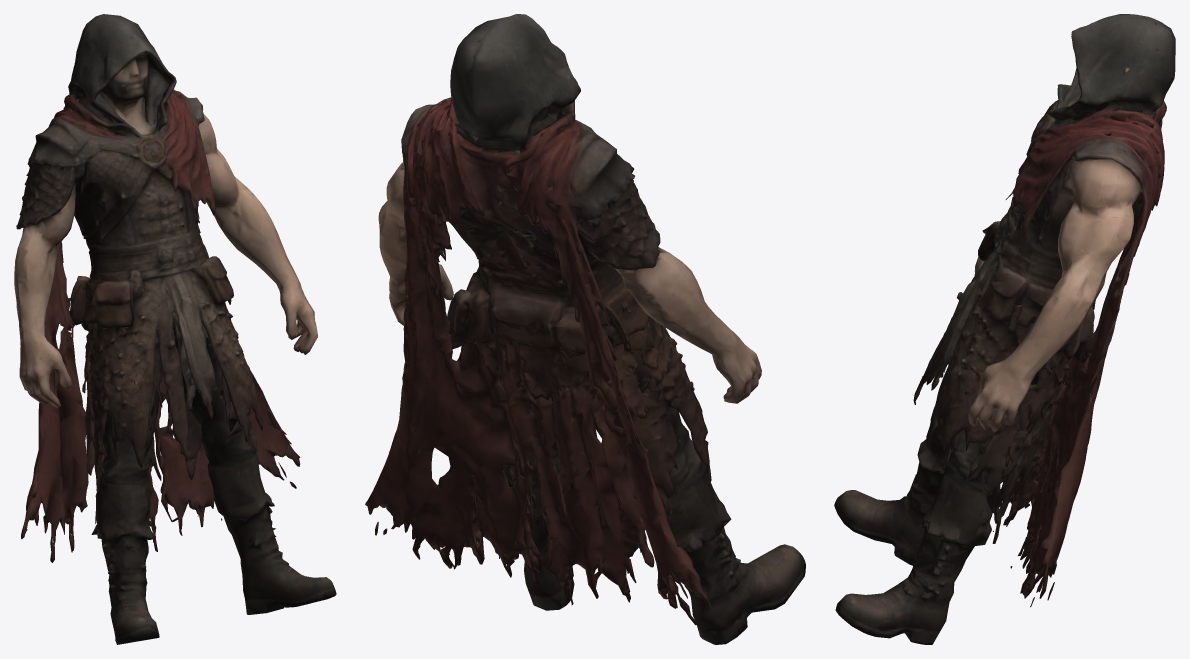
Rendered from aethelred_humano_rig.glb.
The picture shows the model from 3 angles, left to right: view 1: azimuth 30°, elevation 25°; view 2: azimuth 150°, elevation 25°; view 3: azimuth 270°, elevation 25°; orthographic projection. The views are drawn at different scales.
Visible parts, largest first — view 1: humano; view 2: humano; view 3: humano.
Boxes of the visible parts, x1,y1,x2,y2 form: humano: (14, 14, 336, 644); humano: (365, 14, 805, 644); humano: (834, 14, 1175, 644).
Bounding box in the file's own units: 1.01 × 1.8 × 0.9328.
Materials: 1 (1 with a texture image).
